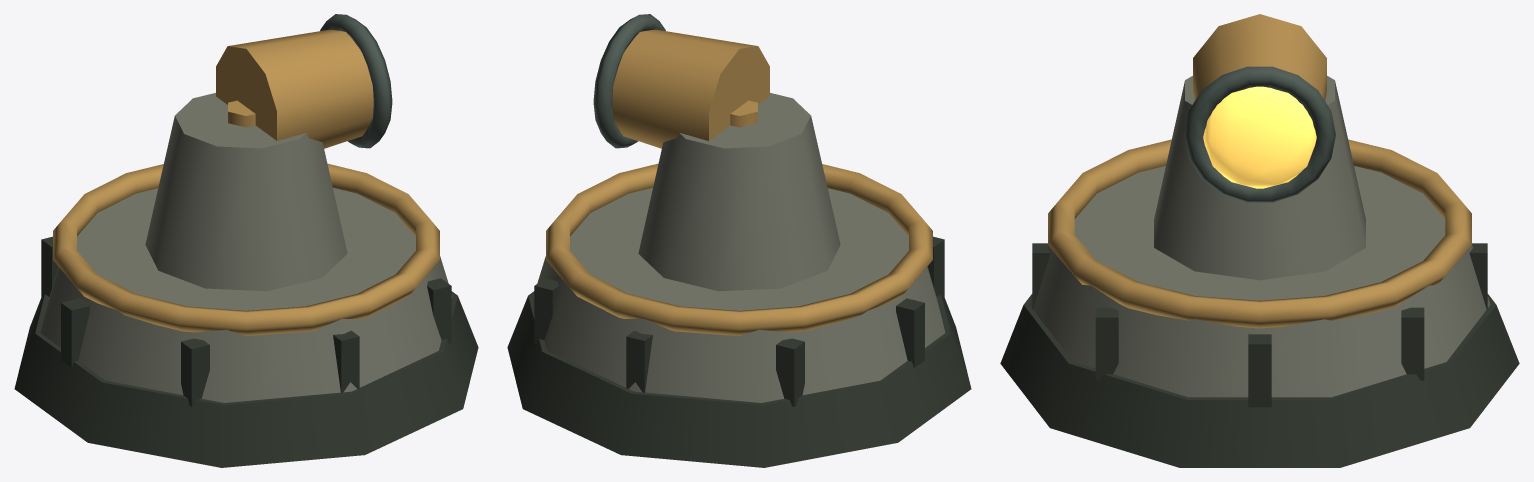
The model's file is tower_laser.glb.
3 renders of one model, left to right at view 1: azimuth 30°, elevation 25°; view 2: azimuth 150°, elevation 25°; view 3: azimuth 270°, elevation 25°, orthographic. The views are drawn at different scales.
Visible parts, largest first — view 1: stone_1, foot_0, column_11, rim_2, lens_housing_13, focus_ring_14, mortar_6, mortar_7, mortar_5, mortar_4, mortar_8, lens_arm_12; view 2: stone_1, foot_0, column_11, rim_2, lens_housing_13, focus_ring_14, mortar_8, mortar_7, mortar_9, mortar_10, mortar_6, lens_arm_12; view 3: stone_1, foot_0, column_11, rim_2, lens_glass_15, focus_ring_14, lens_housing_13, mortar_3, mortar_4, mortar_10, mortar_5, mortar_9.
Part boxes in pixels (bbox=[...]): stone_1: bbox=[40, 187, 452, 402]; foot_0: bbox=[14, 291, 478, 467]; column_11: bbox=[145, 93, 347, 291]; rim_2: bbox=[53, 163, 439, 335]; lens_housing_13: bbox=[216, 29, 373, 148]; focus_ring_14: bbox=[320, 14, 392, 148]; mortar_6: bbox=[181, 338, 209, 406]; mortar_7: bbox=[61, 298, 89, 367]; mortar_5: bbox=[333, 330, 359, 392]; mortar_4: bbox=[427, 278, 451, 343]; mortar_8: bbox=[41, 236, 58, 297]; lens_arm_12: bbox=[228, 100, 255, 127]; stone_1: bbox=[533, 187, 945, 402]; foot_0: bbox=[507, 291, 971, 467]; column_11: bbox=[638, 93, 840, 291]; rim_2: bbox=[546, 163, 932, 335]; lens_housing_13: bbox=[612, 29, 769, 148]; focus_ring_14: bbox=[593, 14, 665, 148]; mortar_8: bbox=[776, 338, 804, 406]; mortar_7: bbox=[896, 298, 924, 367]; mortar_9: bbox=[626, 330, 652, 392]; mortar_10: bbox=[534, 278, 558, 343]; mortar_6: bbox=[927, 236, 944, 297]; lens_arm_12: bbox=[730, 100, 757, 127]; stone_1: bbox=[1029, 166, 1490, 397]; foot_0: bbox=[1000, 294, 1519, 467]; column_11: bbox=[1154, 76, 1365, 280]; rim_2: bbox=[1048, 139, 1471, 328]; lens_glass_15: bbox=[1203, 86, 1316, 188]; focus_ring_14: bbox=[1184, 66, 1335, 202]; lens_housing_13: bbox=[1193, 14, 1326, 120]; mortar_3: bbox=[1248, 334, 1271, 407]; mortar_4: bbox=[1095, 307, 1118, 380]; mortar_10: bbox=[1401, 307, 1424, 380]; mortar_5: bbox=[1032, 243, 1050, 309]; mortar_9: bbox=[1469, 243, 1487, 309].
Bounding box in the file's own units: 0.5326 × 0.4208 × 0.56.
